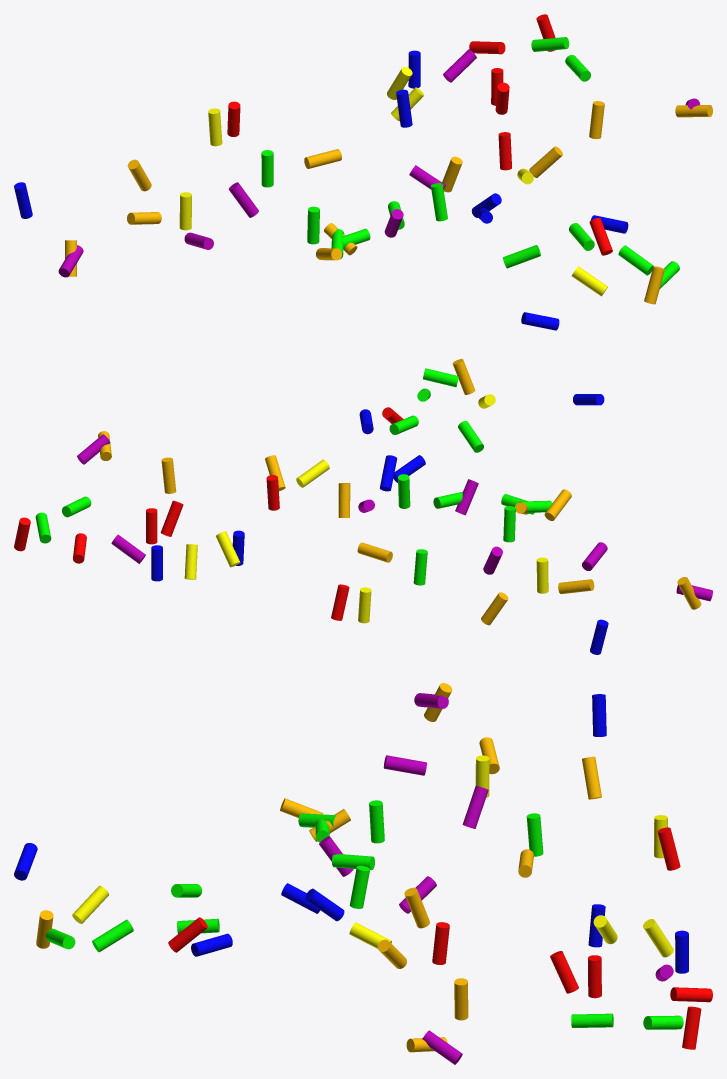
The model's file is rainbow_heart.glb.
3 views of the same model, one above another, from view 1: azimuth 30°, elevation 25°; view 2: azimuth 150°, elevation 25°; view 3: azimuth 270°, elevation 25° (orthographic). The views are drawn at different scales.
Parts seen in each view (by area): view 1: no part large enough to name; view 2: no part large enough to name; view 3: Cylinder.011, Cylinder.029, Cylinder.044, Cylinder.017, Cylinder.028, Cylinder.040, Cylinder.013, Cylinder.023, Cylinder.027, Cylinder.036, Cylinder.030, Cylinder.010 (+5 smaller).
Part boxes in pixels (x1=…): Cylinder.011: x1=682, y1=1006, x2=701, y2=1049; Cylinder.029: x1=657, y1=827, x2=680, y2=870; Cylinder.044: x1=550, y1=951, x2=578, y2=993; Cylinder.017: x1=349, y1=865, x2=369, y2=908; Cylinder.028: x1=383, y1=755, x2=426, y2=775; Cylinder.040: x1=92, y1=919, x2=133, y2=952; Cylinder.013: x1=592, y1=694, x2=606, y2=736; Cylinder.023: x1=369, y1=800, x2=384, y2=843; Cylinder.027: x1=582, y1=756, x2=601, y2=799; Cylinder.036: x1=72, y1=885, x2=109, y2=923; Cylinder.030: x1=462, y1=785, x2=488, y2=828; Cylinder.010: x1=571, y1=1013, x2=613, y2=1027.
Bounding box in the file's own units: 2.5 × 0.1265 × 2.04.
